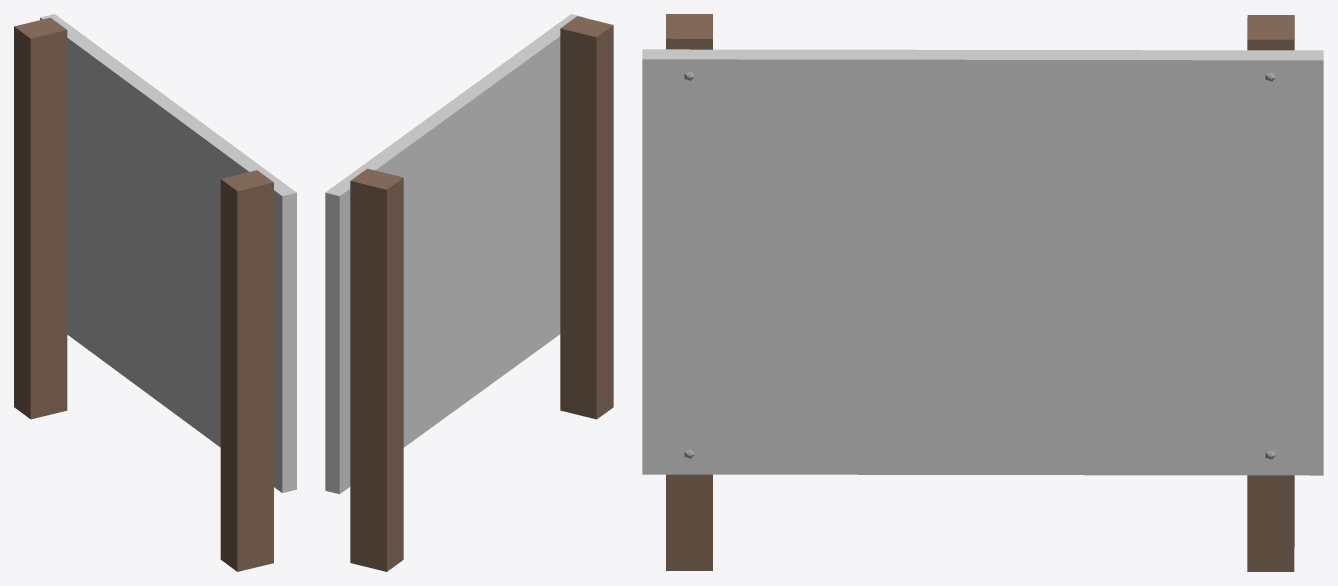
The model's file is Billboard.fbx.
3 renders of one model, left to right at view 1: azimuth 30°, elevation 25°; view 2: azimuth 150°, elevation 25°; view 3: azimuth 270°, elevation 25°, orthographic. The views are drawn at different scales.
Parts seen in each view (by area): view 1: polySurface3399; view 2: polySurface3399; view 3: polySurface3399.
Boxes of the visible parts, left/top/right/bottom form: polySurface3399: left=14, top=14, right=296, bottom=571; polySurface3399: left=325, top=14, right=613, bottom=571; polySurface3399: left=642, top=14, right=1323, bottom=571.
Bounding box in the file's own units: 0.0676 × 0.44 × 0.5105.
